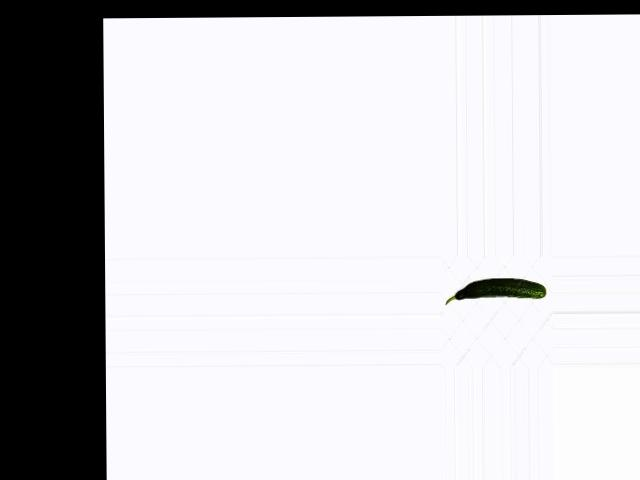cucumber: (444, 278, 545, 304)
